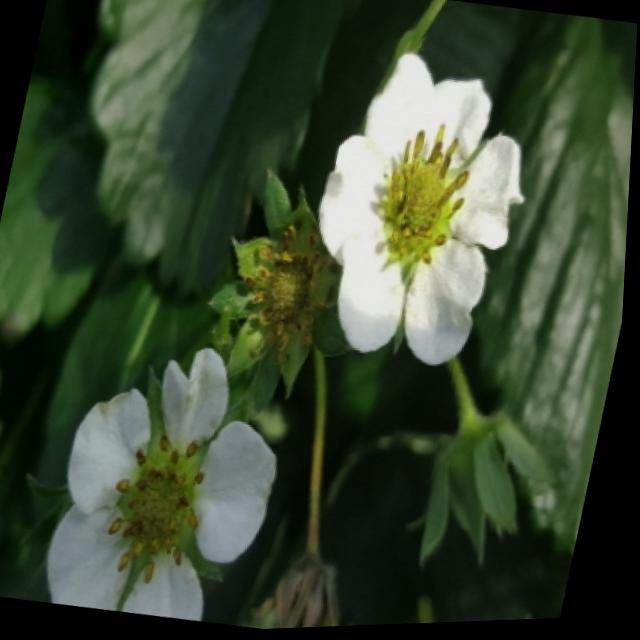Blossom Blight: (107, 430, 217, 589), (384, 123, 478, 285), (249, 221, 338, 349)
